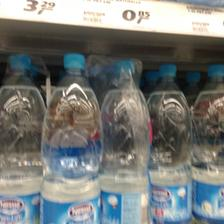Wasser: (38, 53, 102, 224), (98, 58, 150, 222), (0, 54, 48, 222), (148, 63, 192, 223), (190, 63, 222, 221)
